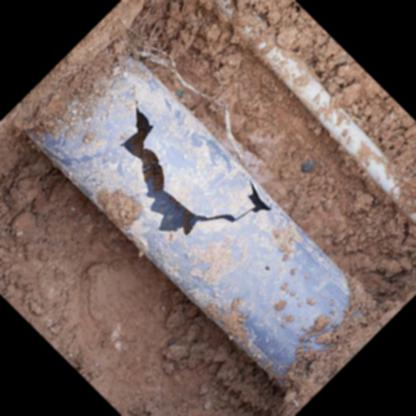burst: (123, 118, 264, 243)
